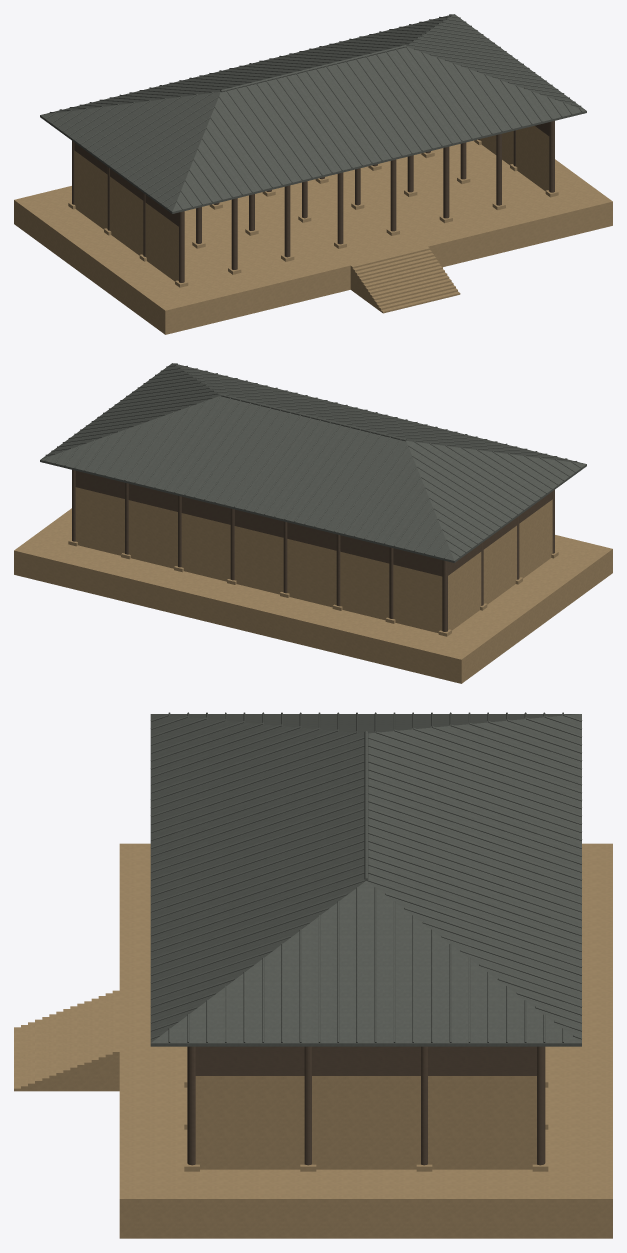
The model's file is deyang-B-LOD1.glb.
The picture shows the model from 3 angles, top to bottom: view 1: azimuth 30°, elevation 25°; view 2: azimuth 150°, elevation 25°; view 3: azimuth 270°, elevation 25°; orthographic projection. The views are drawn at different scales.
Parts seen in each view (by area): view 1: deyang-B-static_earth, deyang-B-static_tile, deyang-B-static_timber; view 2: deyang-B-static_earth, deyang-B-static_tile, deyang-B-static_timber; view 3: deyang-B-static_tile, deyang-B-static_earth, deyang-B-static_timber.
Boxes of the visible parts, <box> form: deyang-B-static_earth: <box>14,126,612,334</box>; deyang-B-static_tile: <box>40,14,586,213</box>; deyang-B-static_timber: <box>72,121,554,282</box>; deyang-B-static_earth: <box>14,487,612,683</box>; deyang-B-static_tile: <box>40,363,586,562</box>; deyang-B-static_timber: <box>72,470,554,631</box>; deyang-B-static_tile: <box>150,712,582,1046</box>; deyang-B-static_earth: <box>14,843,612,1238</box>; deyang-B-static_timber: <box>187,1046,545,1165</box>.
Bounding box in the file's own units: 40.6 × 13.64 × 28.9.
Materials: 3 (3 with a texture image).
